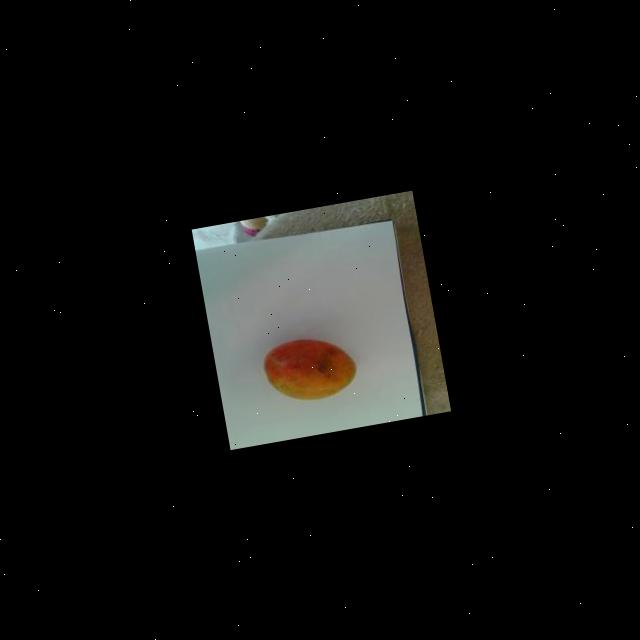Mango: (259, 329, 361, 407)
